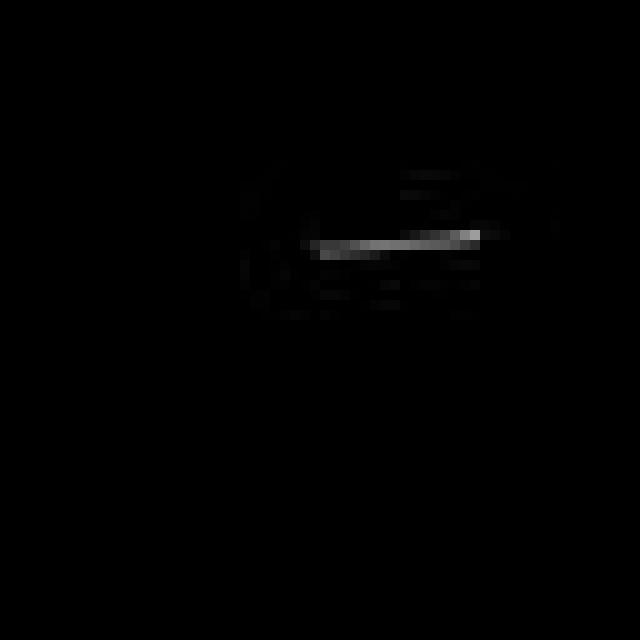1 -one-: (312, 220, 488, 280)
